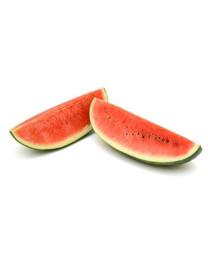watermelon: (10, 88, 203, 168)
